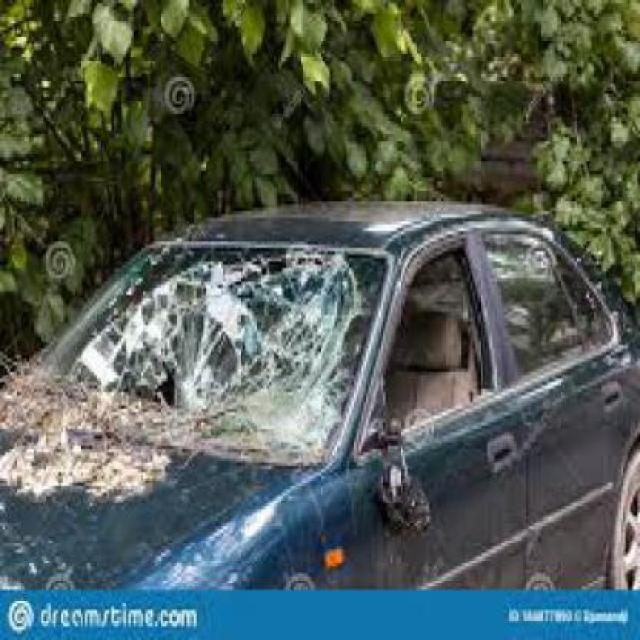Front-Windscreen-Damage: (63, 232, 405, 463)
Sidemirror-Damage: (379, 456, 445, 550)
